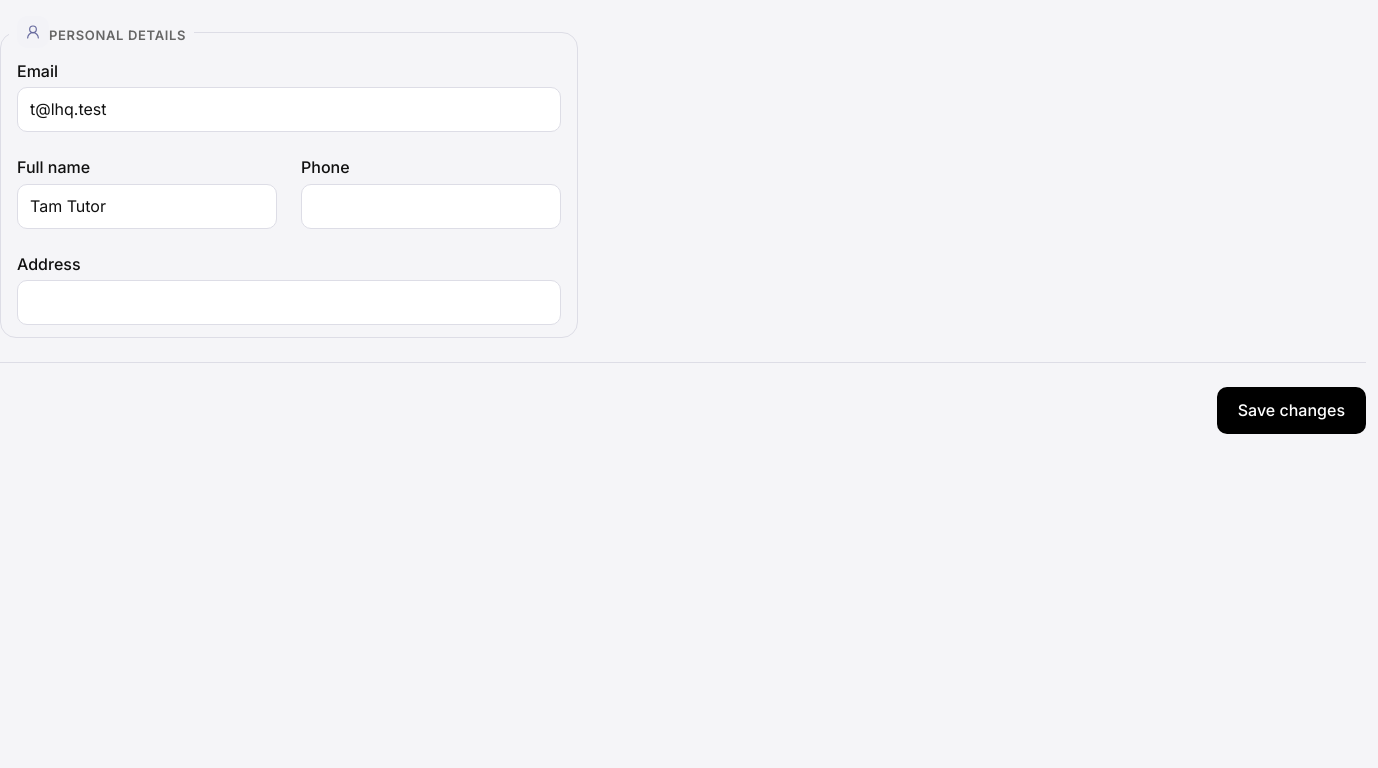
UserEditForm layout › saving PATCHes the editable fields, confirms with a toast, and hands back the result
Replace the text in the field labelled "Full name" with "Tam T." at (147, 206), box x1=17 y1=184 x2=277 y2=229
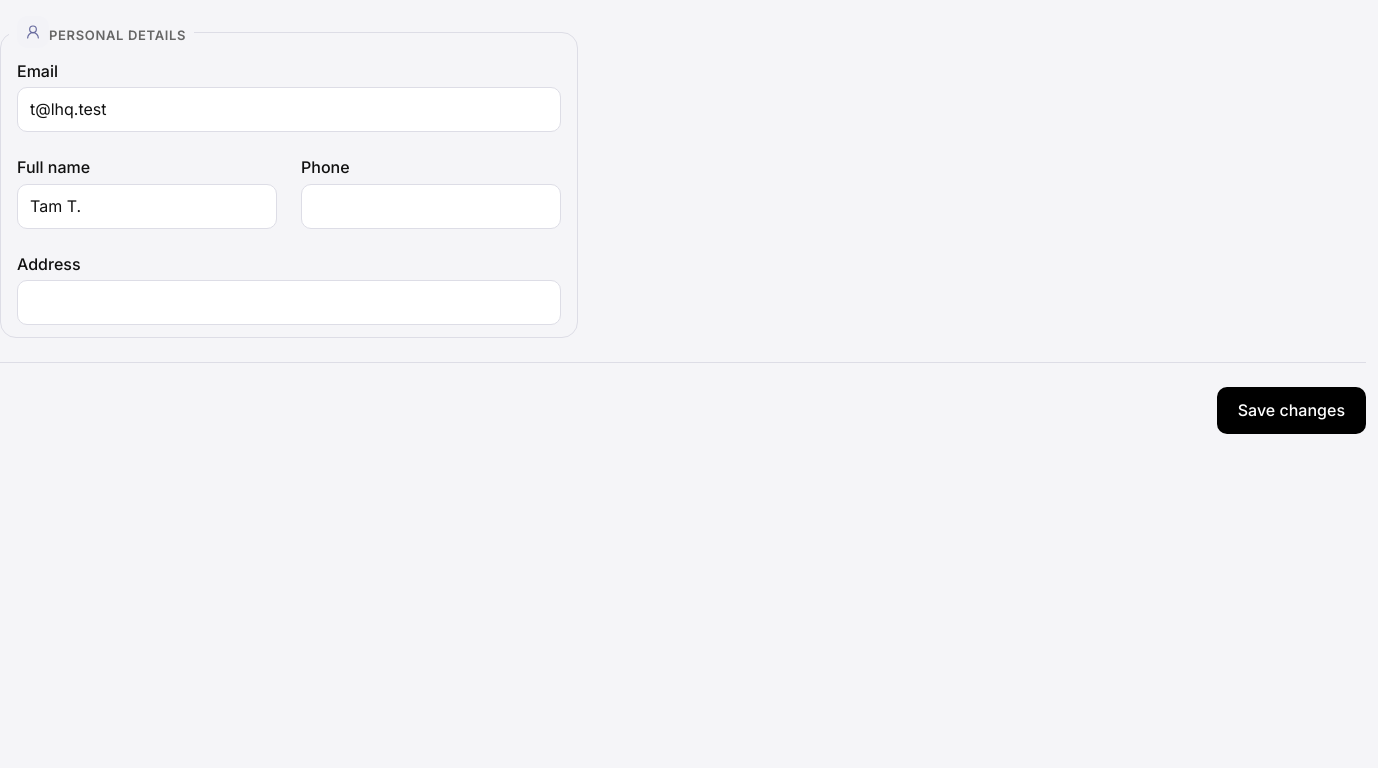
Click the button "Save changes" at (1291, 411), box x1=1217 y1=387 x2=1366 y2=434
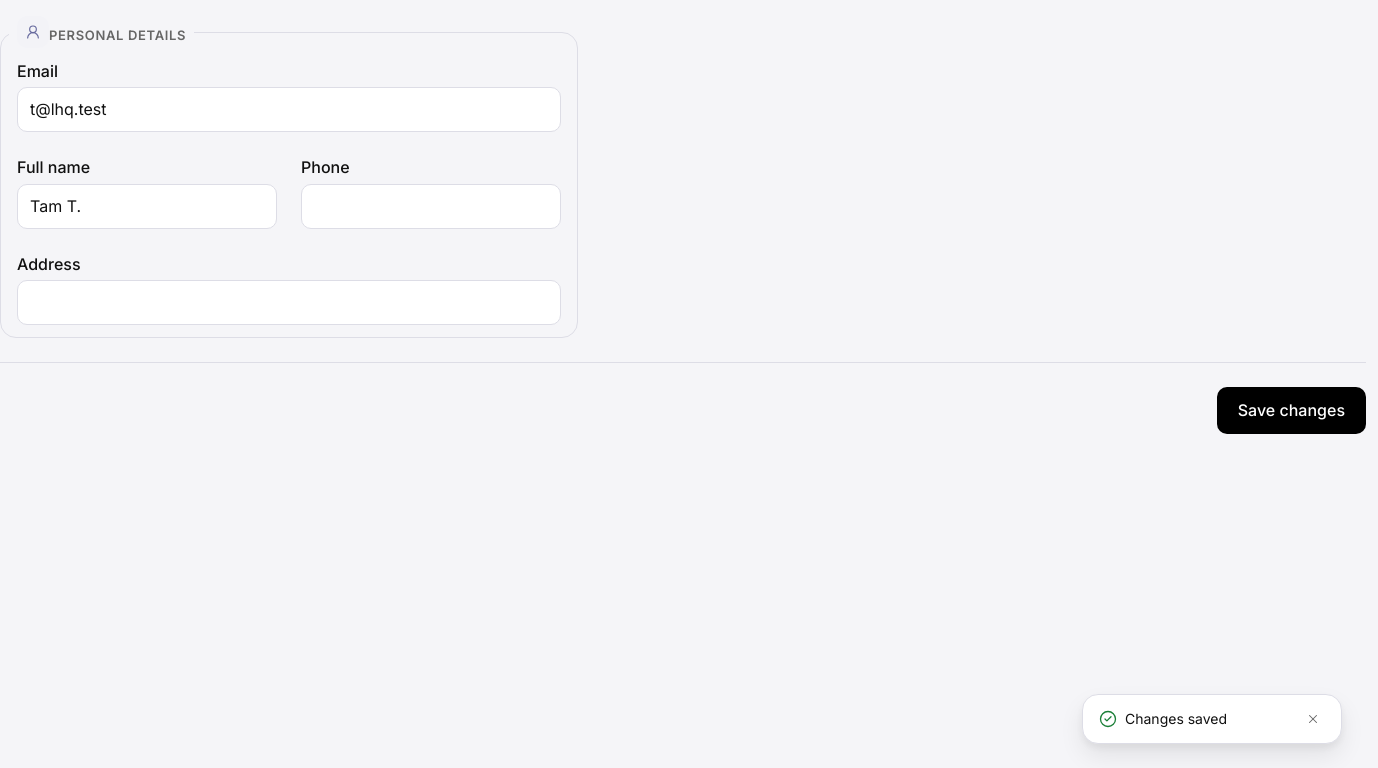
Now the text "Changes saved" is shown, box x1=1125 y1=710 x2=1227 y2=727
